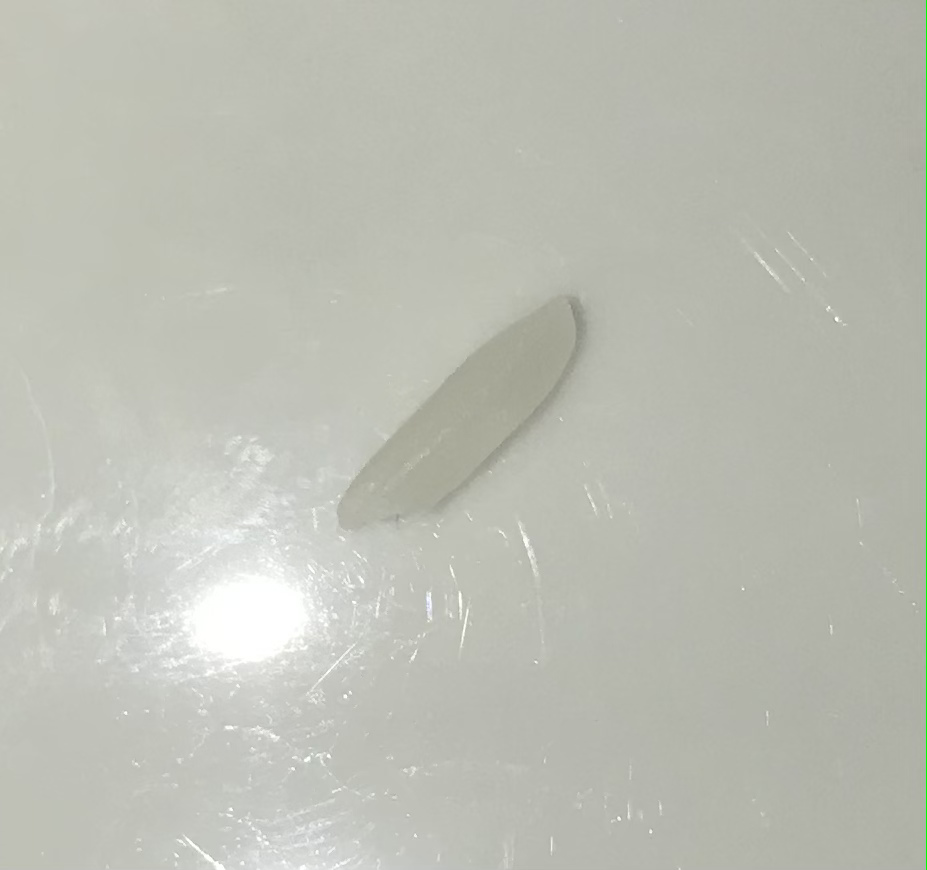Gao Thom Go Cong: (320, 275, 616, 580)
